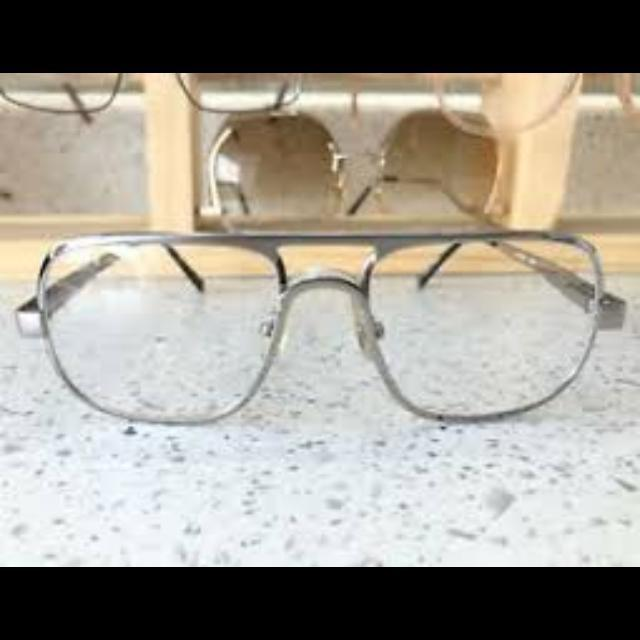glasses: (17, 228, 629, 426)
